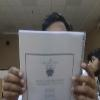notebook: (17, 29, 86, 99)
